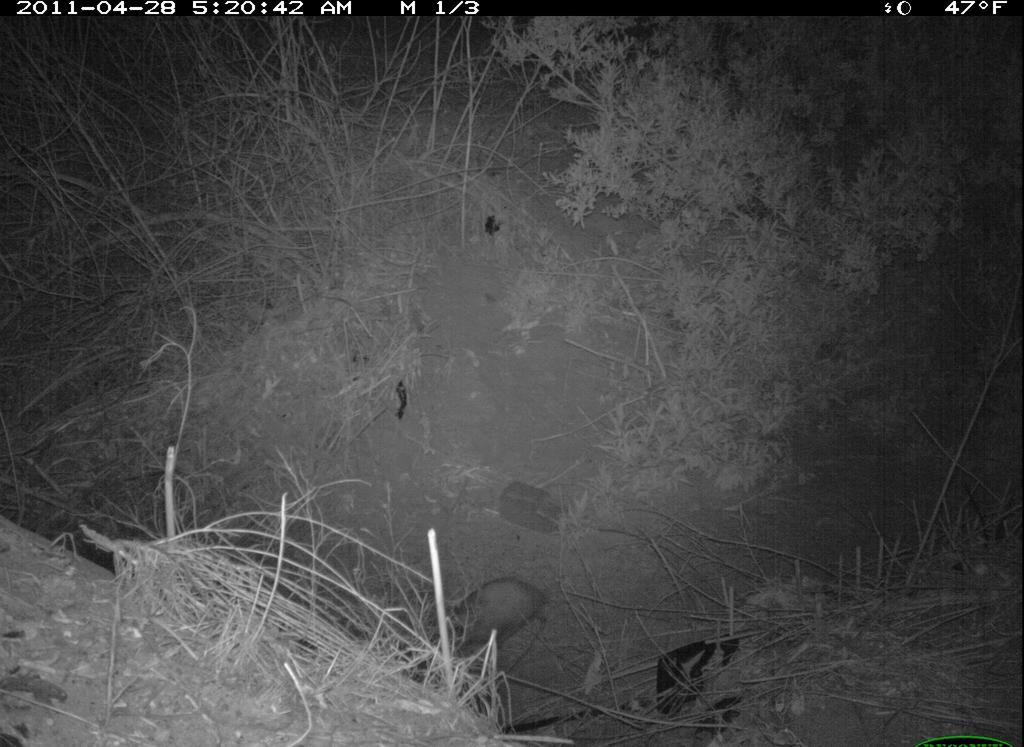opossum: (404, 555, 578, 664)
